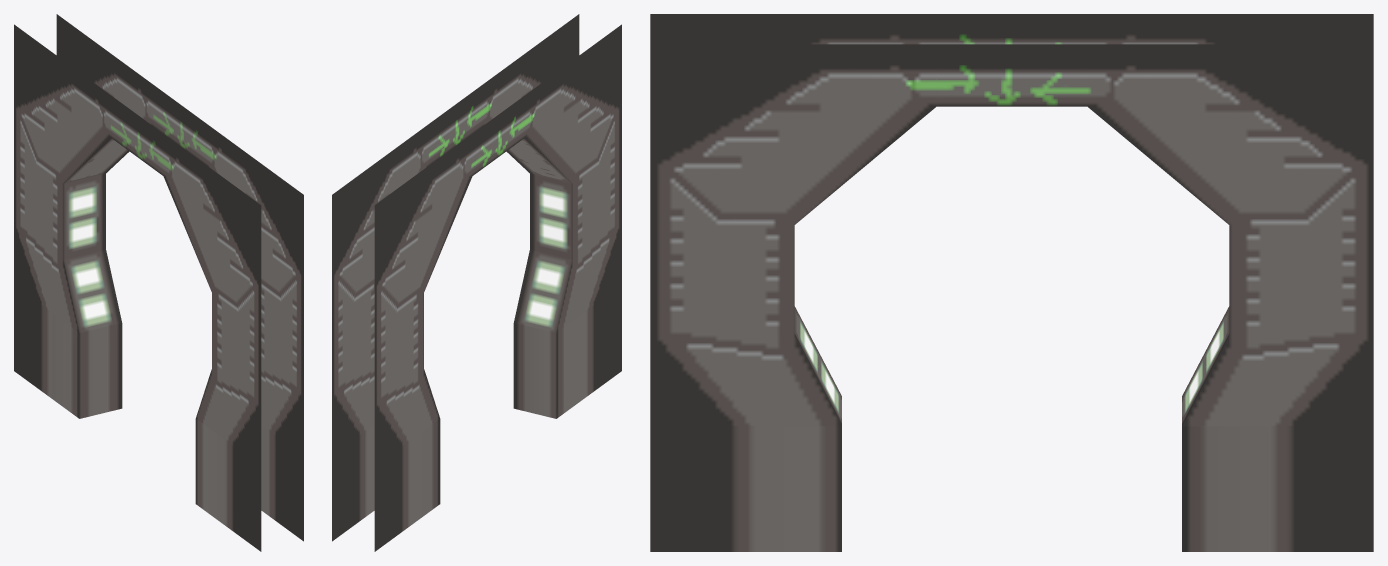
The model's file is corridor_div.fbx.
3 views of the same model, side by side, from view 1: azimuth 30°, elevation 25°; view 2: azimuth 150°, elevation 25°; view 3: azimuth 270°, elevation 25° (orthographic). The views are drawn at different scales.
Visible parts, largest first — view 1: corridor_seg_stand_alone; view 2: corridor_seg_stand_alone; view 3: corridor_seg_stand_alone.
Part boxes in pixels (x1,y1,x2,y2): corridor_seg_stand_alone: [14, 14, 303, 551]; corridor_seg_stand_alone: [332, 14, 621, 551]; corridor_seg_stand_alone: [650, 14, 1373, 551].
Size of the model in its own units: 52.06 by 404 by 522.
